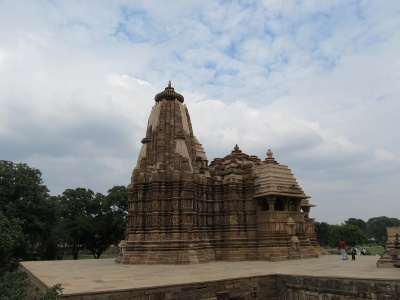amalaka: (143, 86, 197, 104)
gopuram: (132, 98, 212, 174)
mandapa: (248, 183, 321, 225)
